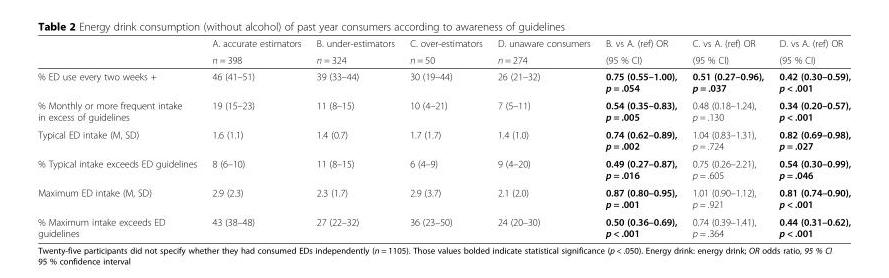table: (37, 37, 849, 238)
table column: (37, 37, 203, 238), (489, 37, 597, 238), (203, 37, 308, 238), (308, 37, 401, 238), (401, 37, 489, 238), (597, 37, 684, 238), (684, 37, 770, 238), (770, 37, 849, 238)
table column header: (37, 37, 849, 67)
table row: (37, 67, 849, 96), (37, 96, 849, 125), (37, 125, 849, 154), (37, 154, 849, 183), (37, 183, 849, 212), (37, 212, 849, 238), (37, 51, 849, 67), (37, 37, 849, 51)
table spanning cell: (489, 37, 597, 67), (203, 37, 308, 67), (308, 37, 401, 67), (401, 37, 489, 67), (597, 37, 684, 67), (684, 37, 770, 67), (770, 37, 849, 67)
